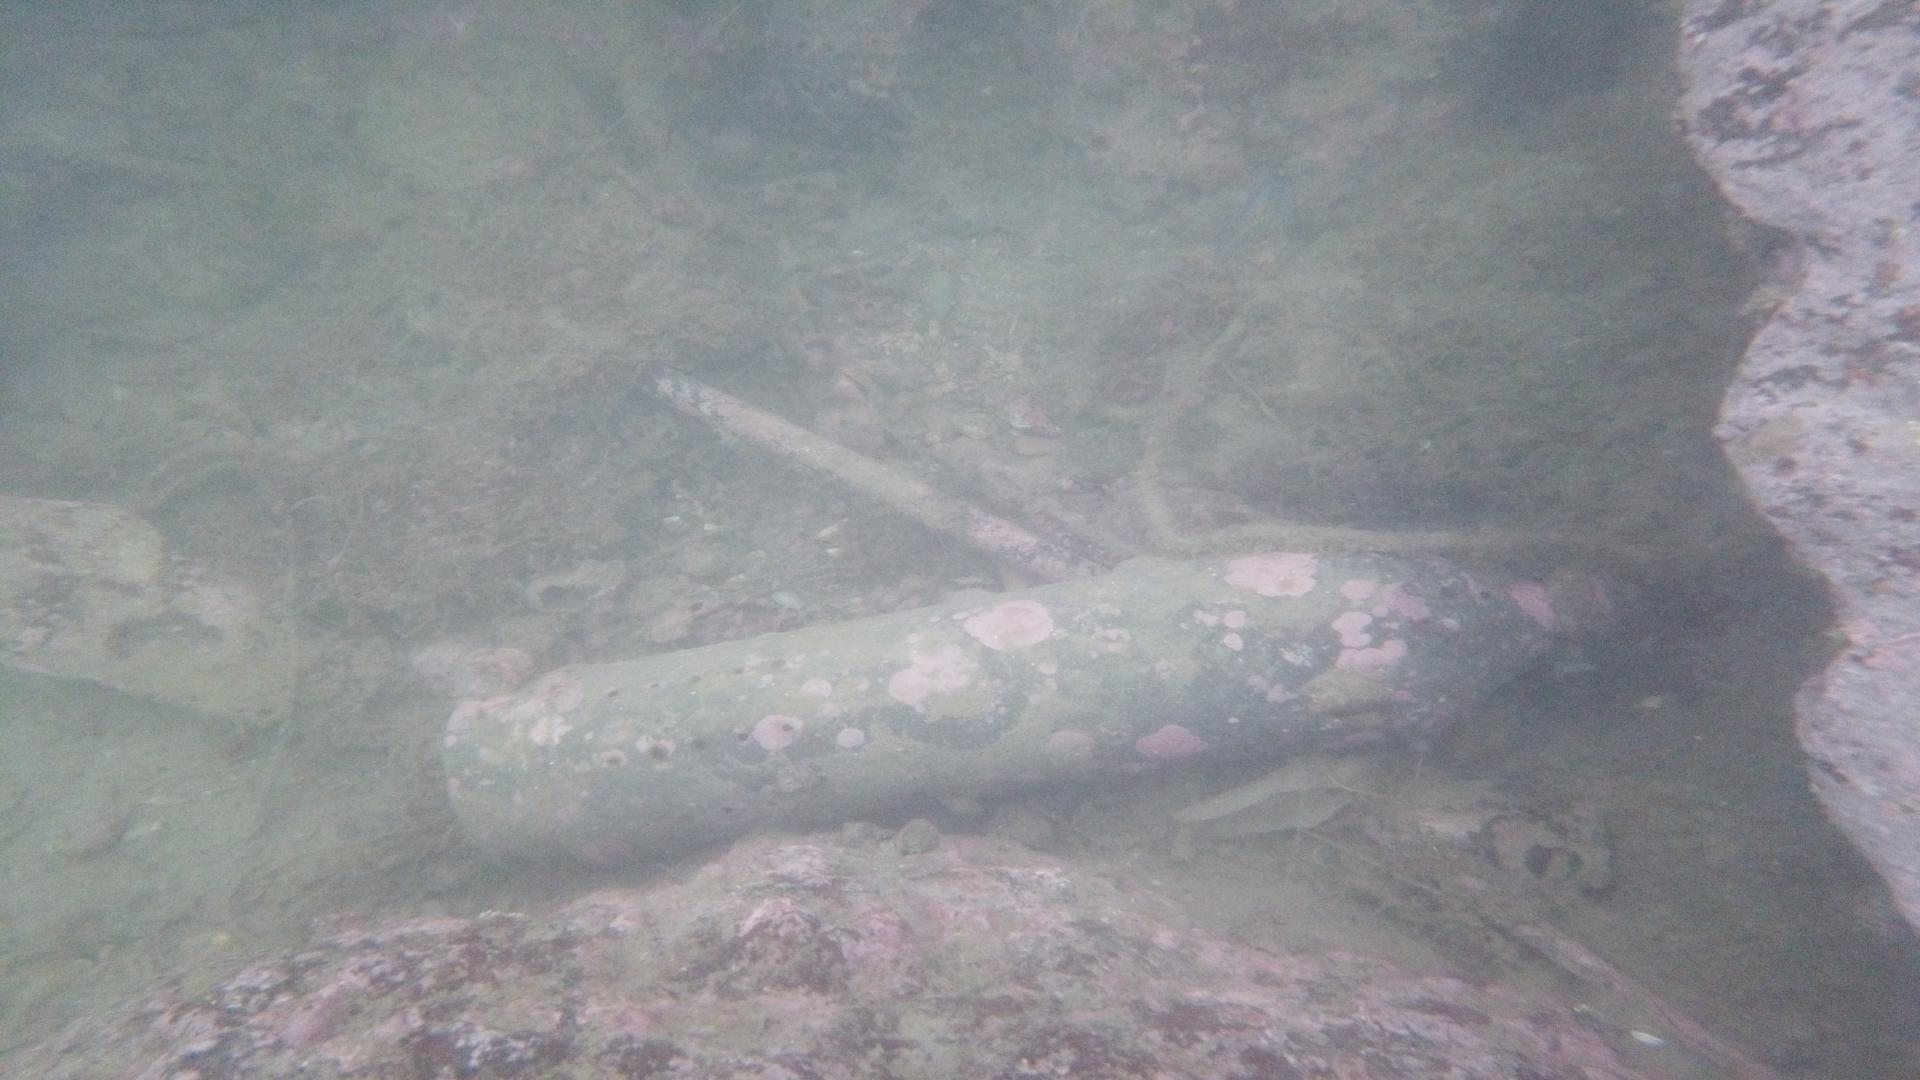eel fish trap: (439, 530, 1631, 869)
